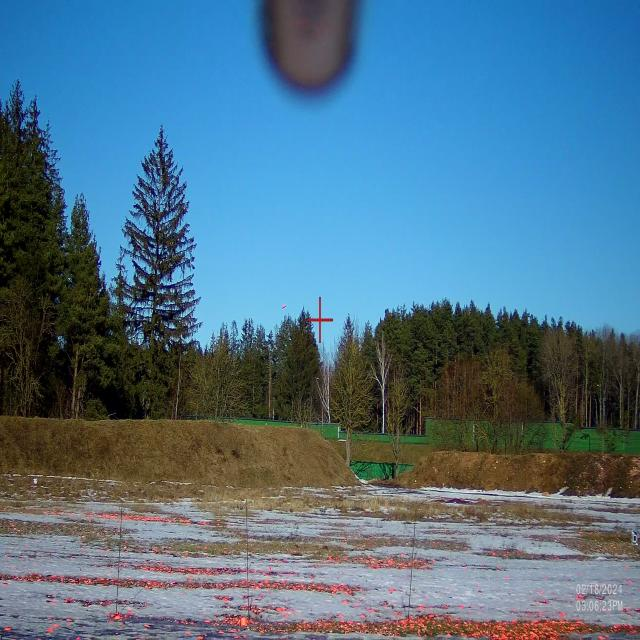entire: (278, 298, 288, 318)
